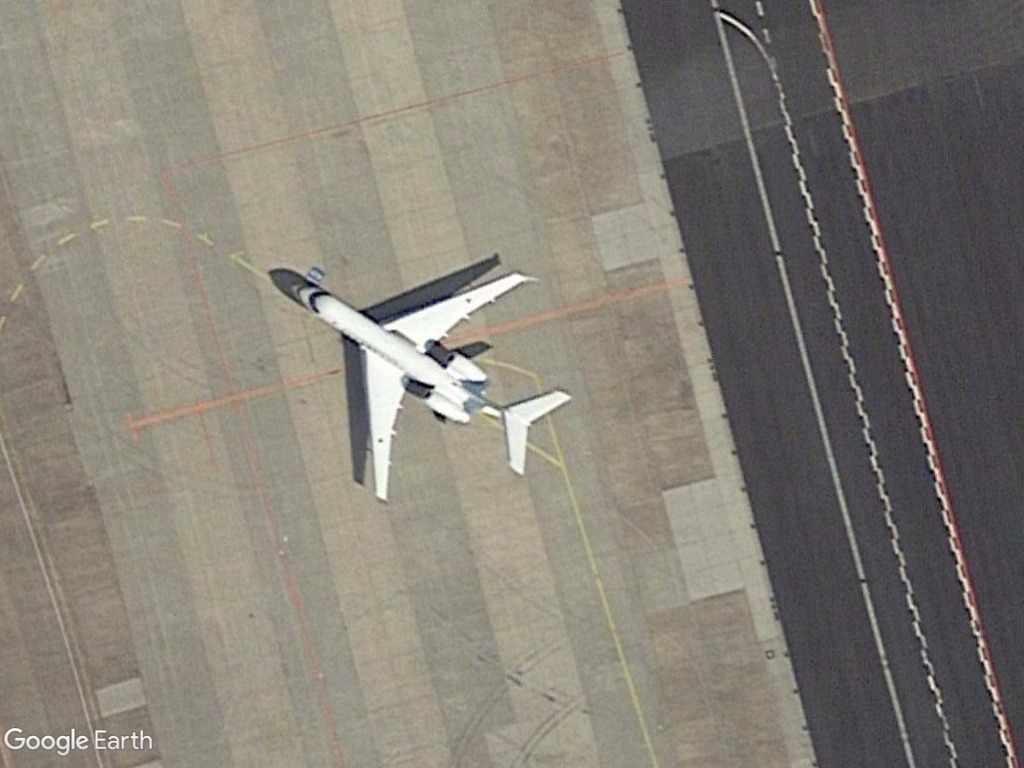chartered: (271, 245, 584, 512)
